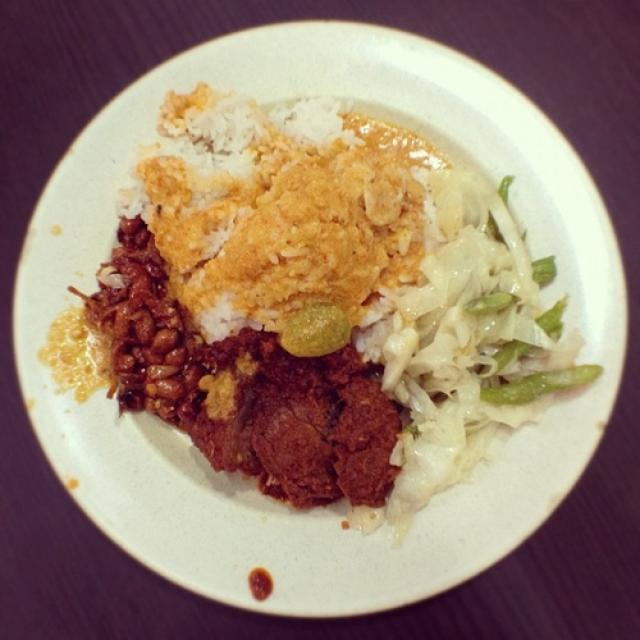米饭主食: (22, 23, 608, 602)
